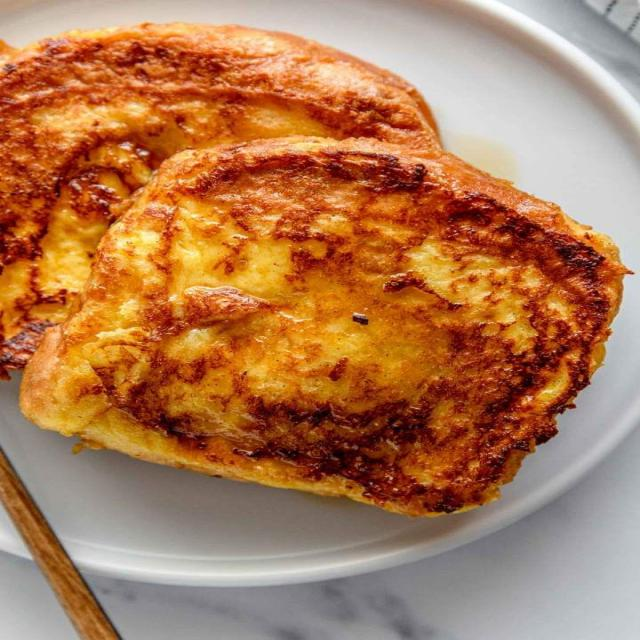toast bread: (20, 138, 628, 516), (0, 23, 438, 379)
